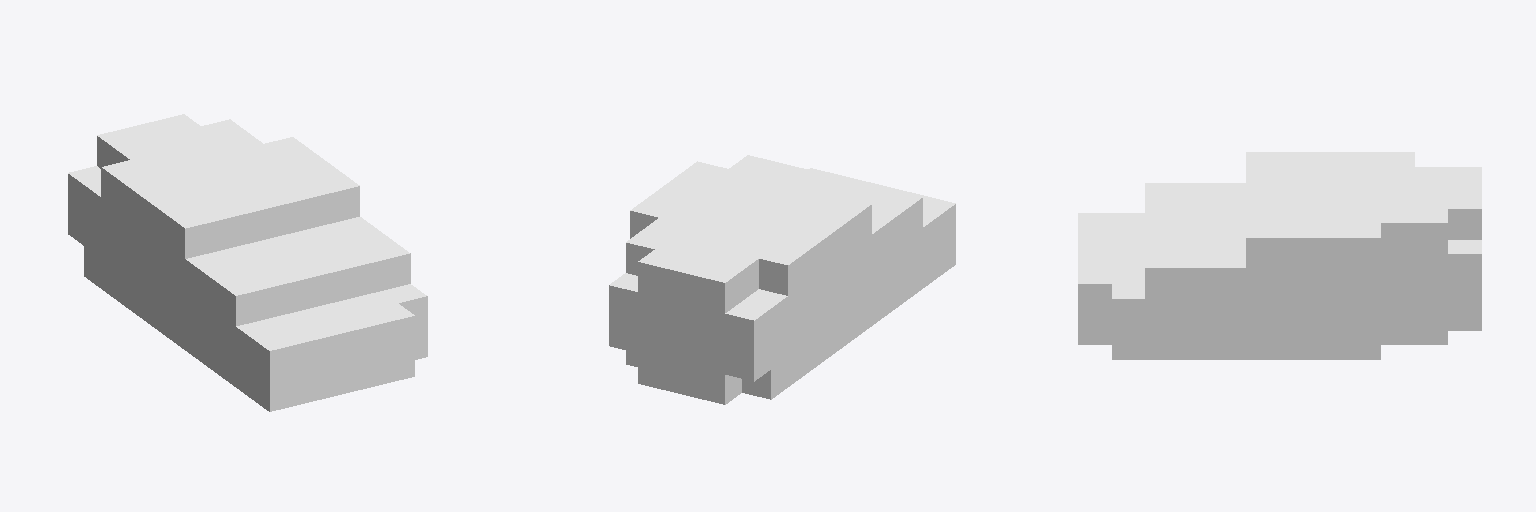
File: male_02-9.obj
3 renders of one model, left to right at view 1: azimuth 30°, elevation 25°; view 2: azimuth 150°, elevation 25°; view 3: azimuth 270°, elevation 25°, orthographic.
Visible parts, largest first — view 1: male_02-9; view 2: male_02-9; view 3: male_02-9.
Part boxes in pixels (bbox=[...]): male_02-9: bbox=[68, 114, 427, 411]; male_02-9: bbox=[609, 155, 955, 404]; male_02-9: bbox=[1078, 152, 1481, 359].
Bounding box in the file's own units: 6 × 4 × 12.